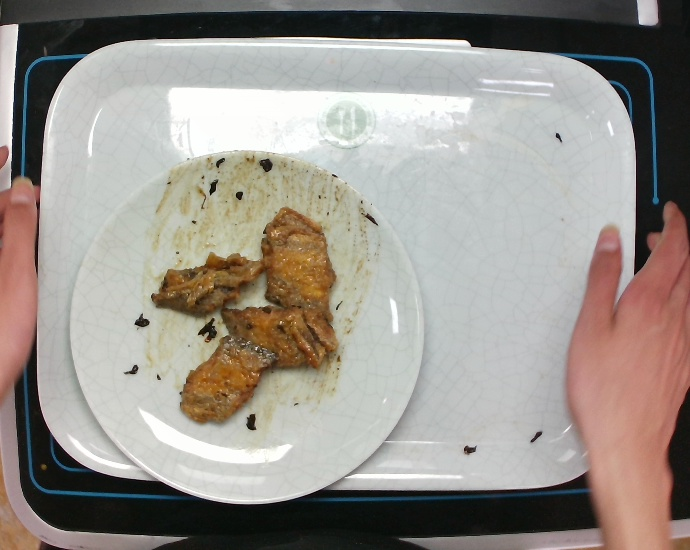JYsf-Da_Yuan_Pan: (61, 144, 434, 515)
